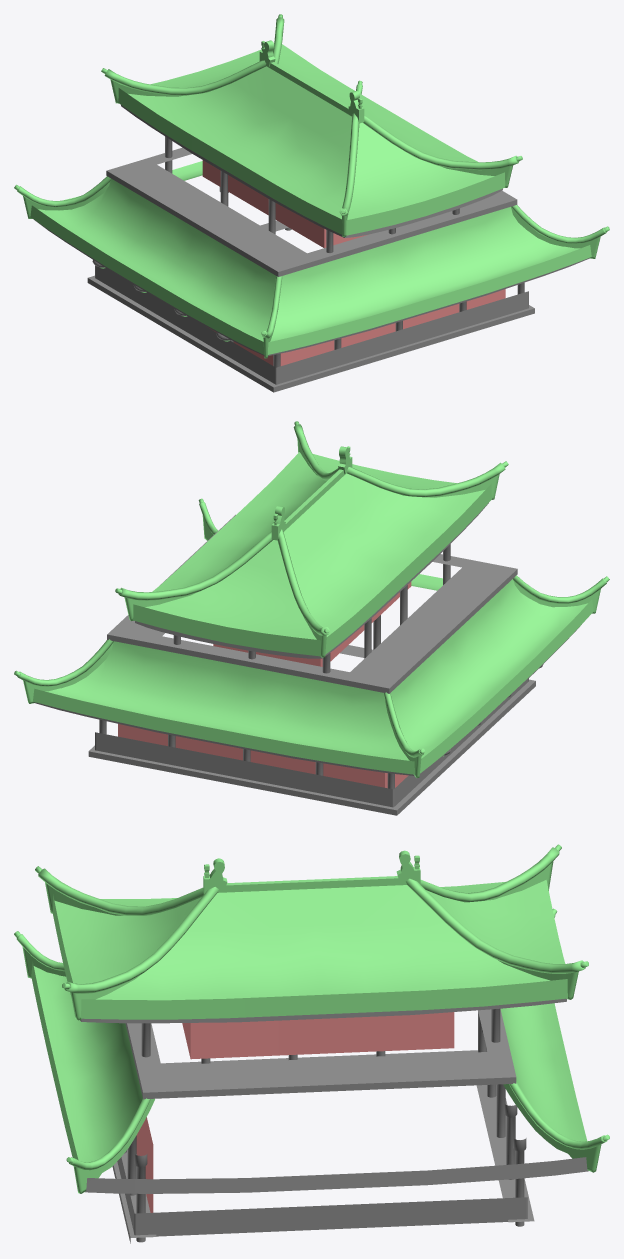
File: CHN_OOB_Building09_CMB.gltf
3 renders of one model, top to bottom at view 1: azimuth 30°, elevation 25°; view 2: azimuth 150°, elevation 25°; view 3: azimuth 270°, elevation 25°, orthographic. The views are drawn at different scales.
Parts seen in each view (by area): view 1: CHN_OOB_Building09_CMB; view 2: CHN_OOB_Building09_CMB; view 3: CHN_OOB_Building09_CMB.
Boxes of the visible parts, x1,y1,x2,y2 form: CHN_OOB_Building09_CMB: (14, 14, 609, 392); CHN_OOB_Building09_CMB: (14, 421, 609, 815); CHN_OOB_Building09_CMB: (14, 844, 609, 1243).
Bounding box in the file's own units: 48.35 × 26.61 × 48.51.
